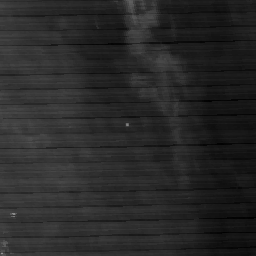Target: (124, 122, 131, 128)
